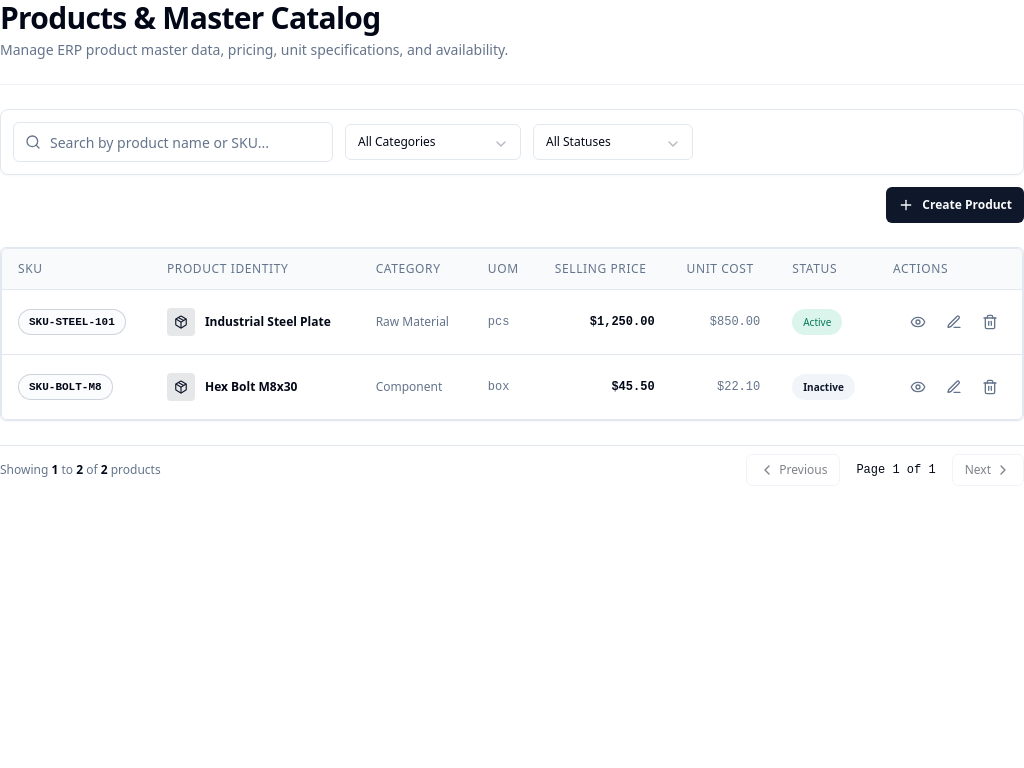
it: Product Management Suite › opens Create Product modal when Create Product button is clicked
What coordinates should you click on to do the following:
click the button "Create Product"
I would click on:
 (955, 205)
Its box is [886,187,1023,223].
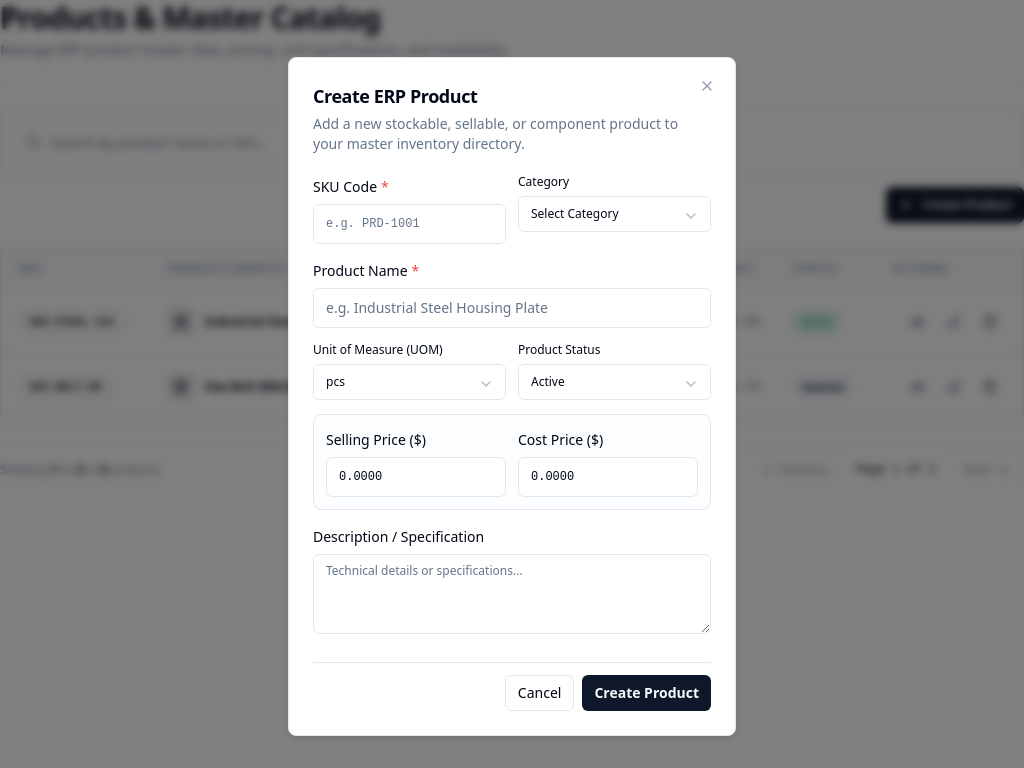
Now the heading "Create ERP Product" is shown, box [313,84,477,108]
